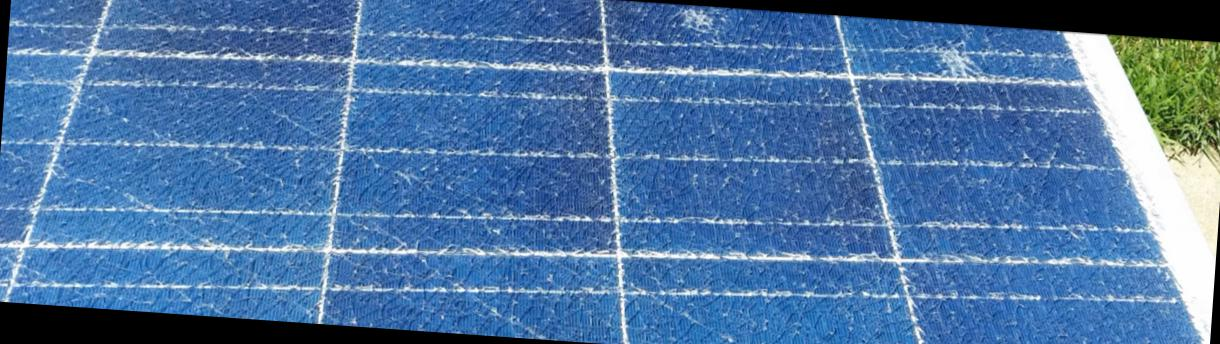Crack: (900, 22, 1016, 100), (652, 3, 744, 44)
